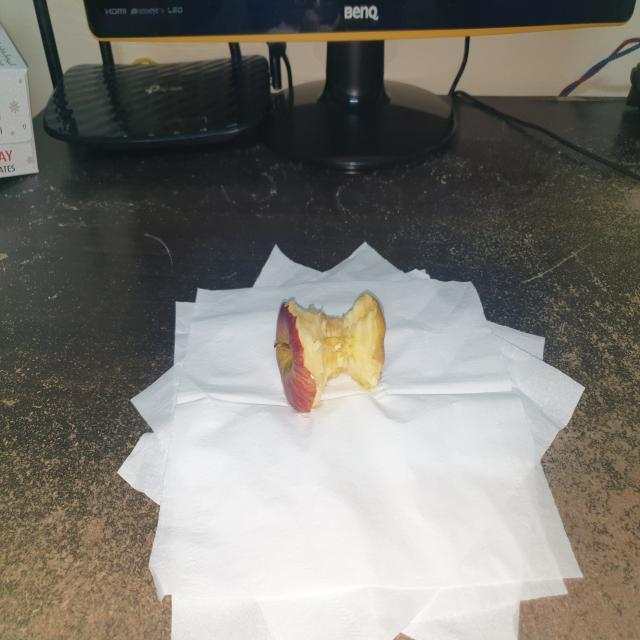apple: (266, 287, 394, 417)
